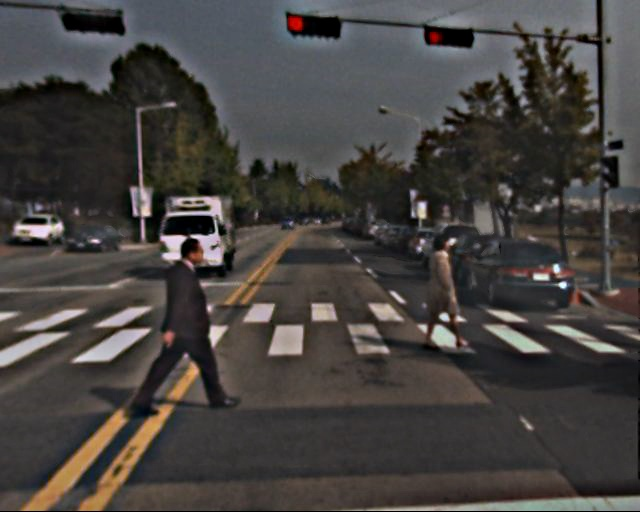person: (146, 239, 217, 413), (416, 236, 463, 351)
